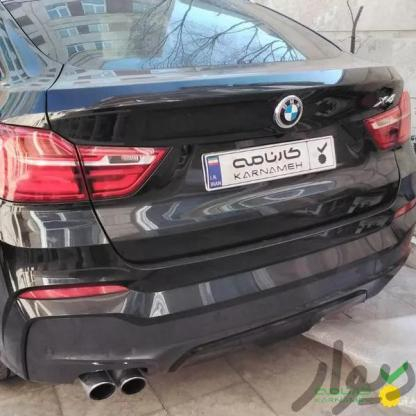Car: (0, 0, 413, 354)
